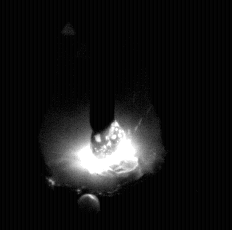arame: (90, 0, 116, 143)
poca: (38, 0, 161, 230)
